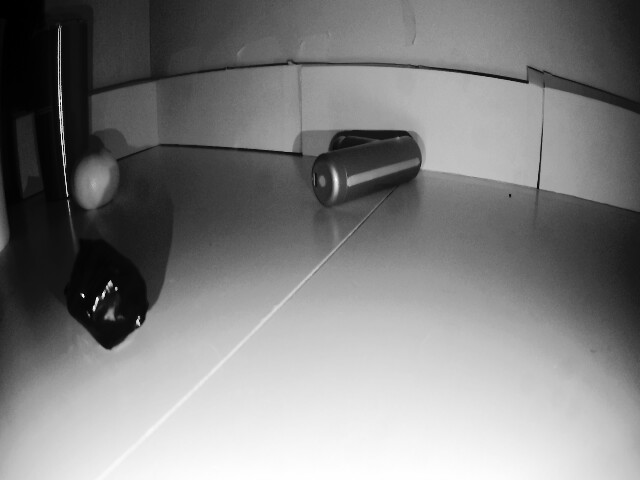black: (63, 249, 156, 353)
